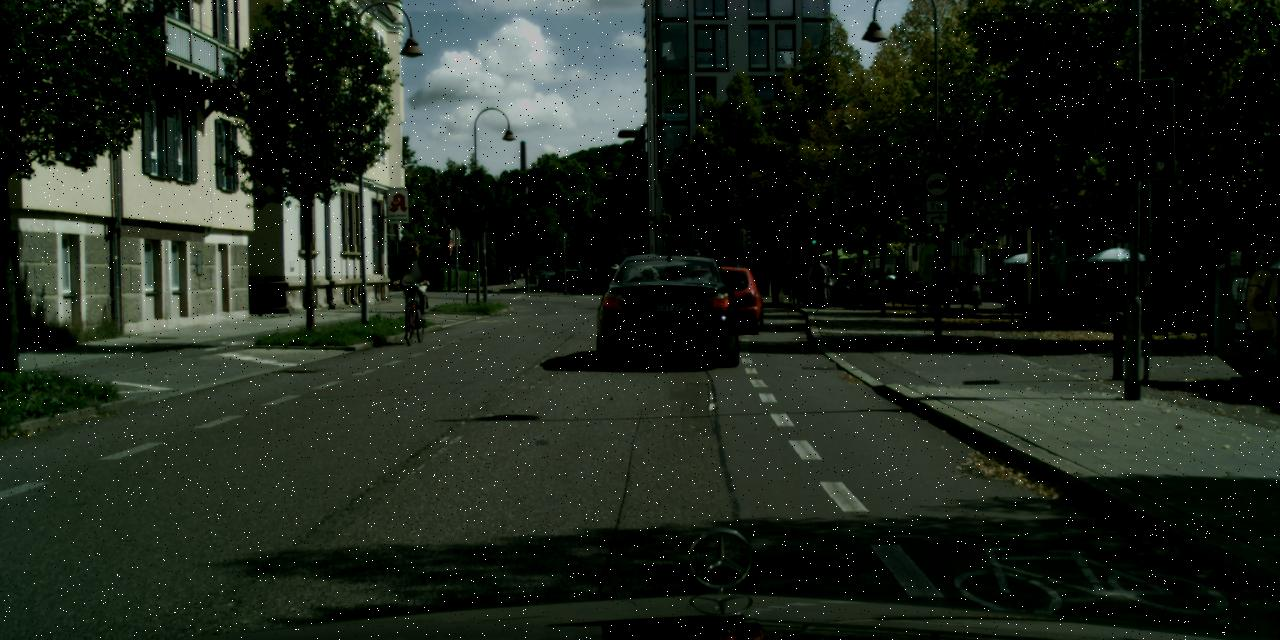ped: (398, 241, 432, 326), (1068, 274, 1088, 323), (806, 258, 826, 306), (816, 259, 835, 307), (811, 259, 830, 307), (801, 262, 818, 306), (788, 260, 804, 304), (951, 266, 964, 299)
